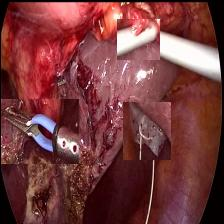Bipolar: (0, 98, 78, 163)
Irrigator: (116, 18, 159, 59)
Specimen Bag: (122, 101, 170, 159)
